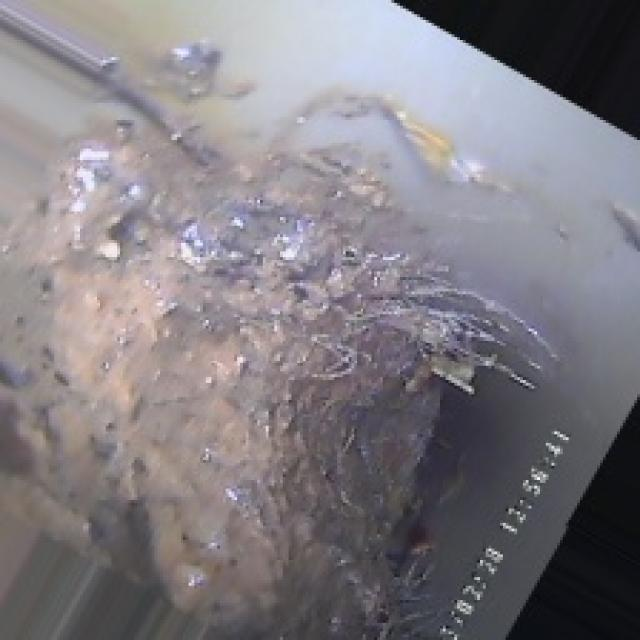sluge accumulation: (80, 172, 466, 574)
